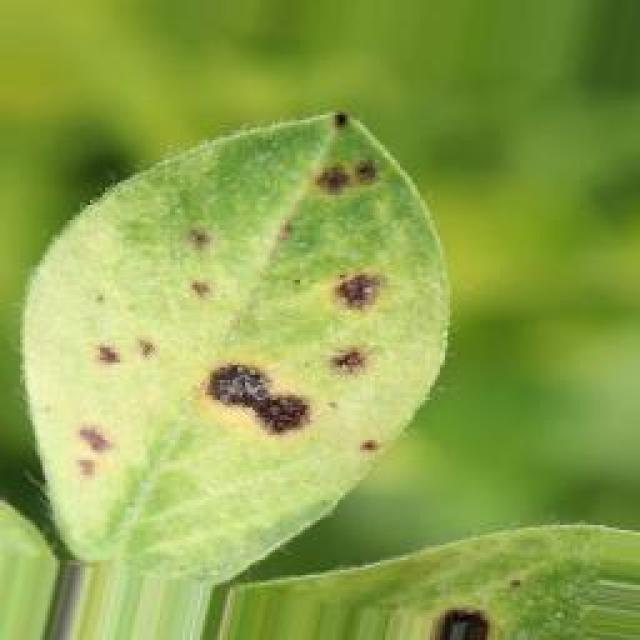Yellowish: (75, 108, 453, 494), (437, 571, 546, 640)
